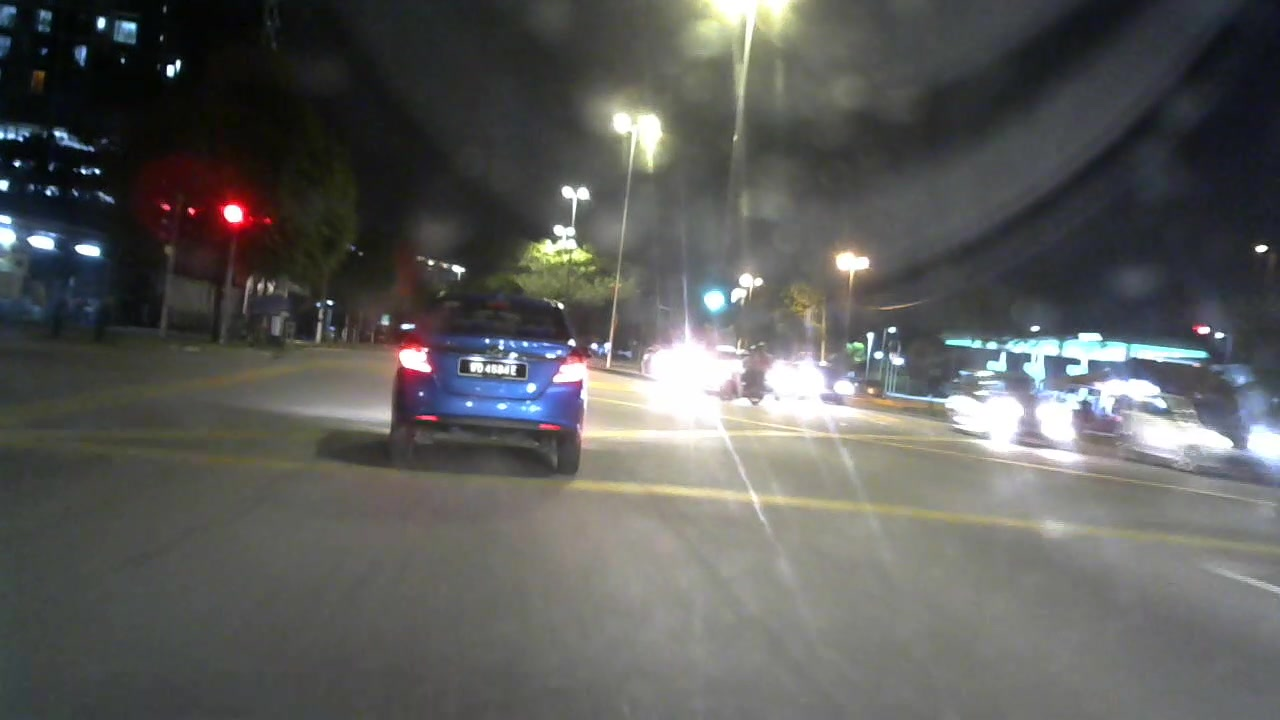Car: (376, 289, 602, 476), (1110, 394, 1255, 483), (941, 371, 1084, 454)
